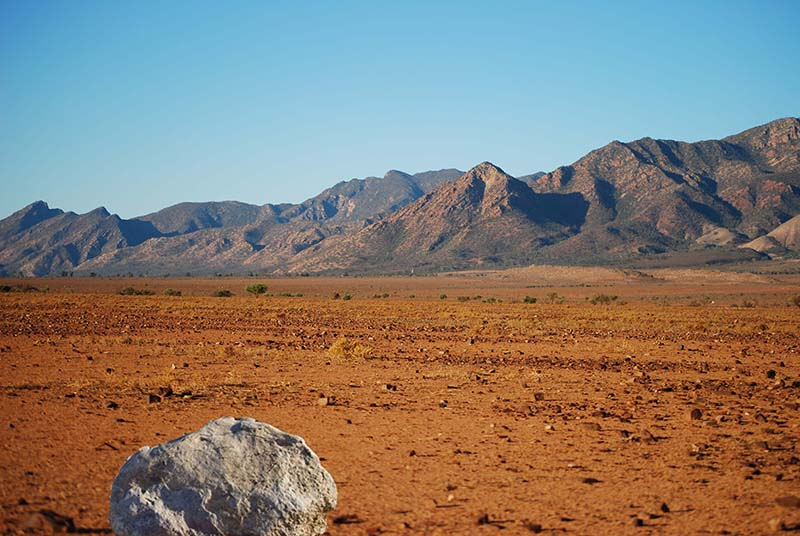Rocks: (101, 408, 355, 536)
